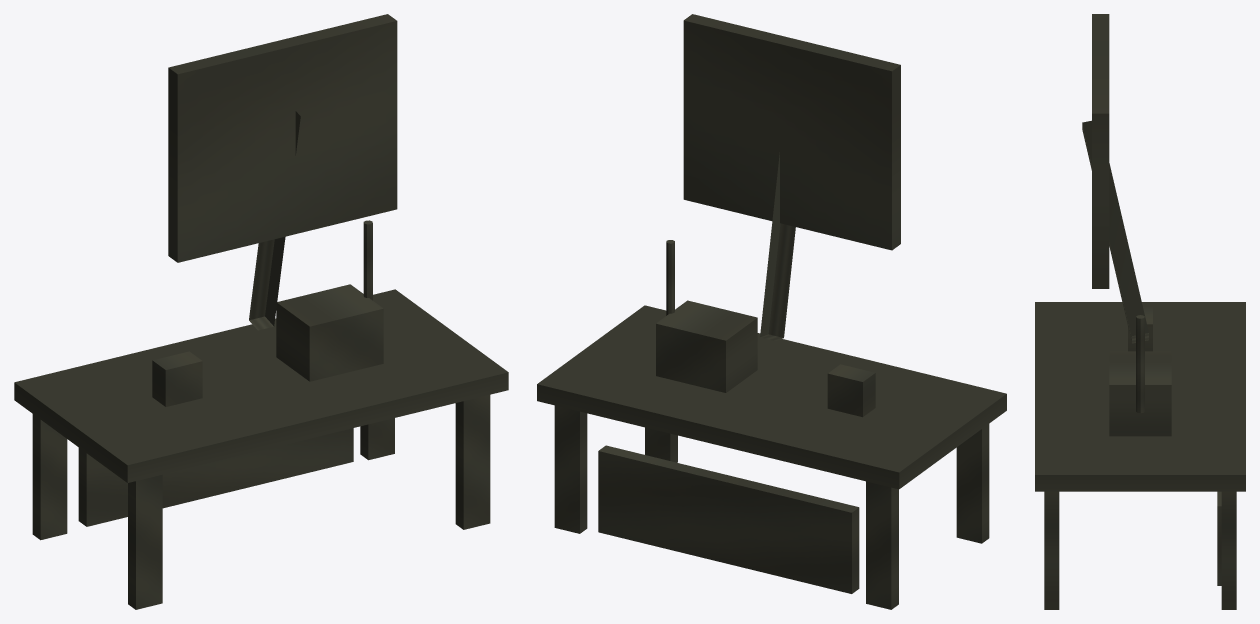
File: prop_map_board_easel_a.glb
3 renders of one model, left to right at view 1: azimuth 30°, elevation 25°; view 2: azimuth 150°, elevation 25°; view 3: azimuth 270°, elevation 25°, orthographic. The views are drawn at different scales.
Parts seen in each view (by area): view 1: prop_map_board_easel_a; view 2: prop_map_board_easel_a; view 3: prop_map_board_easel_a.
Part boxes in pixels (x1,y1,x2,y2): prop_map_board_easel_a: (14, 14, 508, 609); prop_map_board_easel_a: (537, 14, 1006, 609); prop_map_board_easel_a: (1035, 14, 1245, 609).
Size of the model in its own units: 1.65 by 2.07 by 0.85.
Materials: 1 (1 with a texture image).
